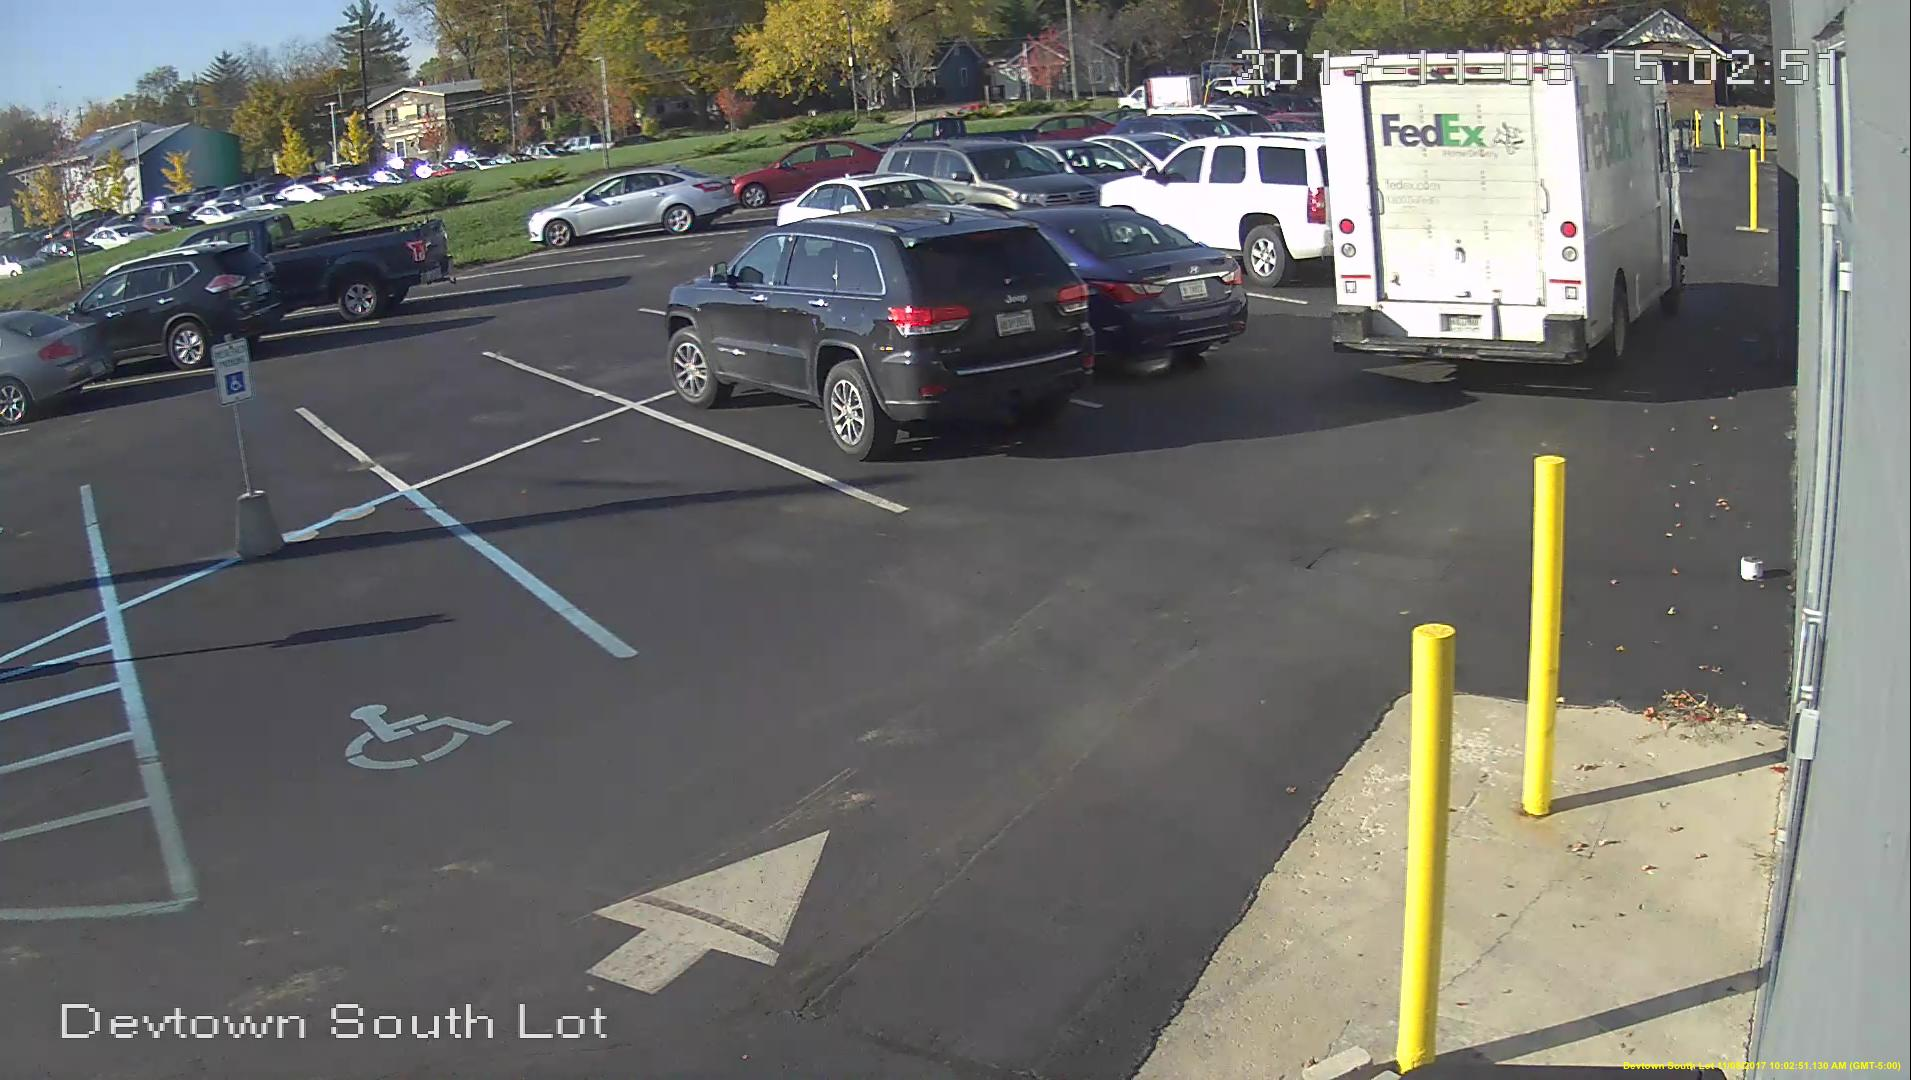fedex_truck: (1314, 50, 1690, 373)
